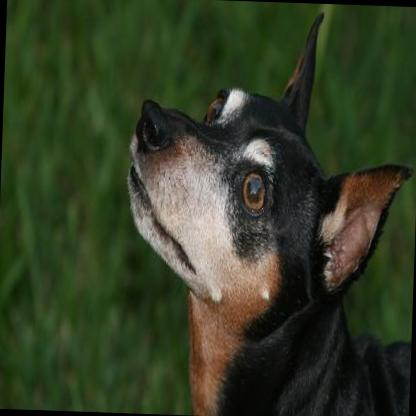miniature_pinscher: (117, 4, 416, 416)
